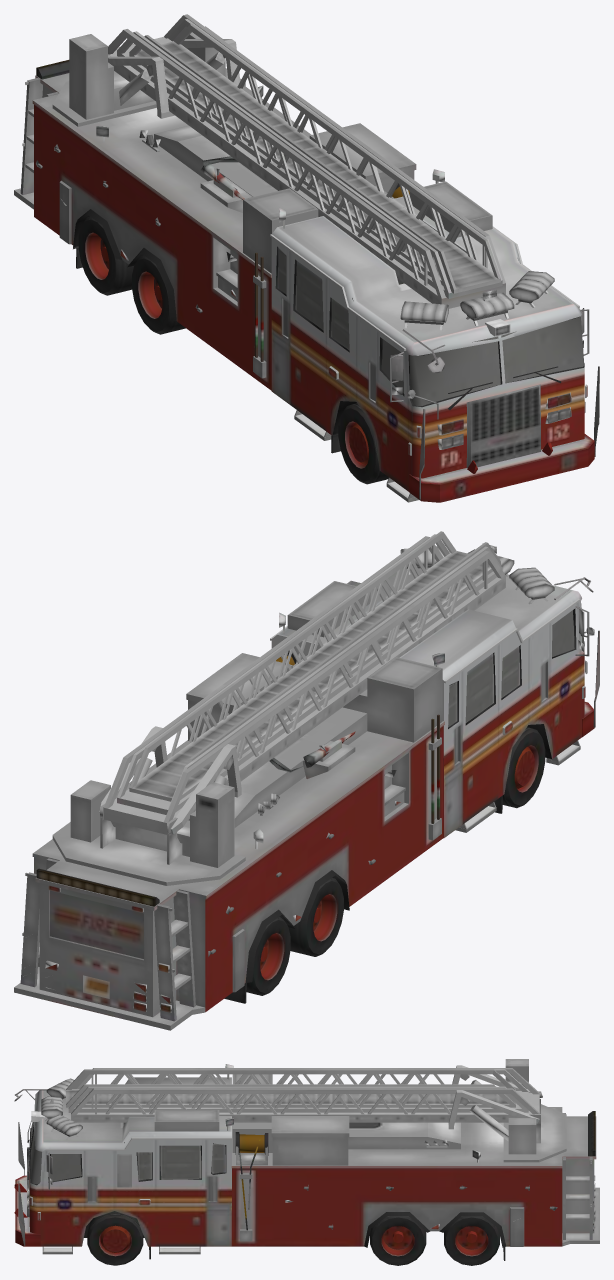
File: bus-fire.glb
3 renders of one model, top to bottom at view 1: azimuth 30°, elevation 25°; view 2: azimuth 150°, elevation 25°; view 3: azimuth 270°, elevation 25°, orthographic. The views are drawn at different scales.
Parts seen in each view (by area): view 1: FireTruck01, WheelBR2, WheelFR, WheelBR; view 2: FireTruck01, WheelBR, WheelFR, WheelBR2; view 3: FireTruck01, WheelFL, WheelBL, WheelBL2.
Part boxes in pixels (x1=…): FireTruck01: x1=14, y1=14, x2=599, y2=502; WheelBR2: x1=78, y1=216, x2=133, y2=295; WheelFR: x1=338, y1=403, x2=388, y2=484; WheelBR: x1=132, y1=255, x2=185, y2=334; FireTruck01: x1=14, y1=531, x2=599, y2=1030; WheelBR: x1=288, y1=878, x2=343, y2=956; WheelFR: x1=502, y1=727, x2=545, y2=808; WheelBR2: x1=246, y1=917, x2=290, y2=995; FireTruck01: x1=14, y1=1059, x2=599, y2=1260; WheelFL: x1=87, y1=1211, x2=143, y2=1265; WheelBL: x1=370, y1=1216, x2=426, y2=1265; WheelBL2: x1=444, y1=1216, x2=499, y2=1265.
Size of the model in its own units: 3.12 by 3.47 by 11.47.
1 material, 1 textured.
